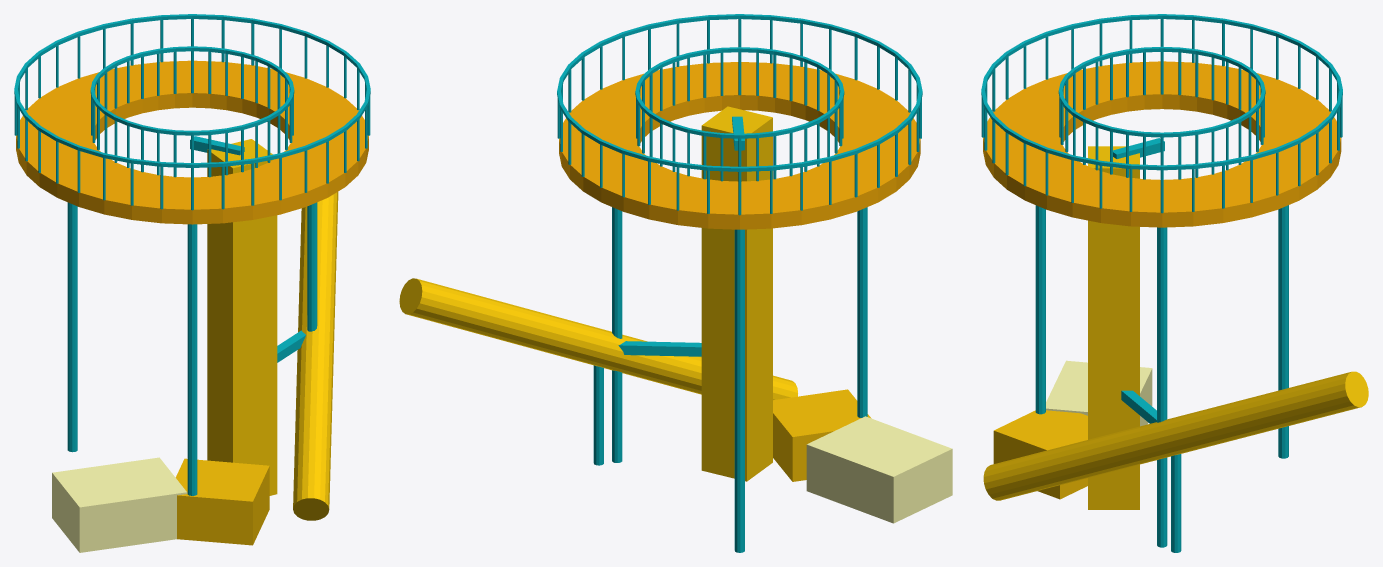
Rendered from folie_tag_038.glb.
3 renders of one model, left to right at view 1: azimuth 30°, elevation 25°; view 2: azimuth 150°, elevation 25°; view 3: azimuth 270°, elevation 25°, orthographic. The views are drawn at different scales.
Visible parts, largest first — view 1: folie_tag_038_00_ring, folie_tag_038_line, folie_tag_038_core, folie_tag_038_01_tube, folie_tag_038_02_block, folie_tag_038_03_block; view 2: folie_tag_038_00_ring, folie_tag_038_line, folie_tag_038_core, folie_tag_038_01_tube, folie_tag_038_02_block, folie_tag_038_03_block; view 3: folie_tag_038_00_ring, folie_tag_038_line, folie_tag_038_01_tube, folie_tag_038_core, folie_tag_038_03_block, folie_tag_038_02_block.
Part boxes in pixels (left/top/right/bottom): folie_tag_038_00_ring: left=16, top=60, right=368, bottom=224; folie_tag_038_line: left=14, top=14, right=370, bottom=495; folie_tag_038_core: left=207, top=139, right=277, bottom=495; folie_tag_038_01_tube: left=293, top=192, right=338, bottom=520; folie_tag_038_02_block: left=52, top=457, right=187, bottom=552; folie_tag_038_03_block: left=175, top=458, right=269, bottom=545; folie_tag_038_00_ring: left=559, top=62, right=920, bottom=229; folie_tag_038_line: left=557, top=14, right=922, bottom=552; folie_tag_038_core: left=701, top=106, right=772, bottom=481; folie_tag_038_01_tube: left=399, top=278, right=797, bottom=399; folie_tag_038_02_block: left=806, top=416, right=952, bottom=523; folie_tag_038_03_block: left=773, top=389, right=871, bottom=481; folie_tag_038_00_ring: left=983, top=61, right=1341, bottom=227; folie_tag_038_line: left=981, top=14, right=1342, bottom=552; folie_tag_038_01_tube: left=983, top=371, right=1368, bottom=500; folie_tag_038_core: left=1088, top=146, right=1139, bottom=509; folie_tag_038_03_block: left=993, top=410, right=1087, bottom=499; folie_tag_038_02_block: left=1046, top=360, right=1152, bottom=426.
Size of the model in its own units: 9.92 by 9.27 by 8.22.
